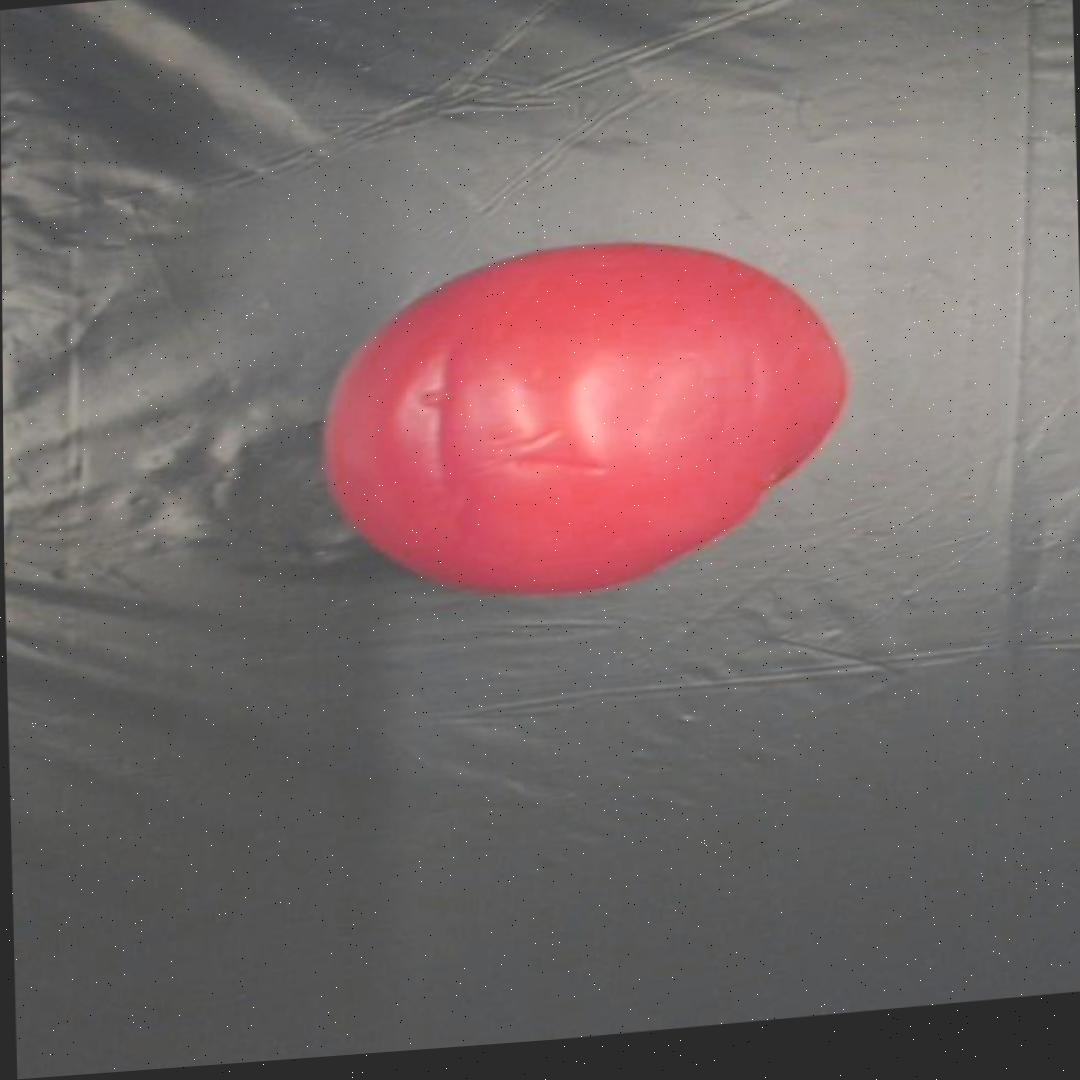matang: (320, 218, 852, 614)
